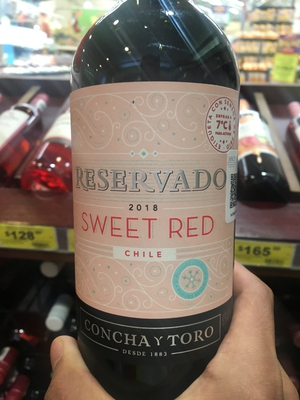reservado sweet red: (66, 16, 238, 400)
